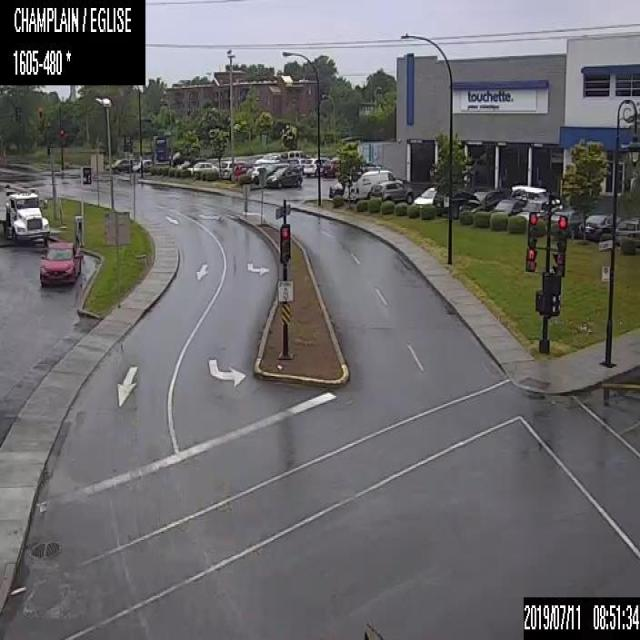vehicle: (0, 180, 50, 244), (343, 163, 402, 201), (39, 240, 83, 284), (574, 211, 620, 241), (458, 189, 503, 217), (544, 208, 582, 238), (370, 179, 412, 203), (433, 190, 469, 215), (266, 166, 302, 188), (254, 162, 288, 184), (615, 215, 639, 245), (515, 200, 550, 220), (489, 196, 524, 216), (413, 184, 438, 210), (511, 184, 547, 199), (218, 160, 245, 179), (186, 160, 216, 173), (298, 157, 316, 176), (279, 149, 305, 161), (319, 160, 337, 177), (246, 166, 267, 180), (234, 163, 251, 180), (181, 157, 206, 168), (111, 156, 128, 172), (328, 180, 344, 197), (132, 158, 151, 171), (313, 155, 330, 165), (268, 154, 280, 163)
